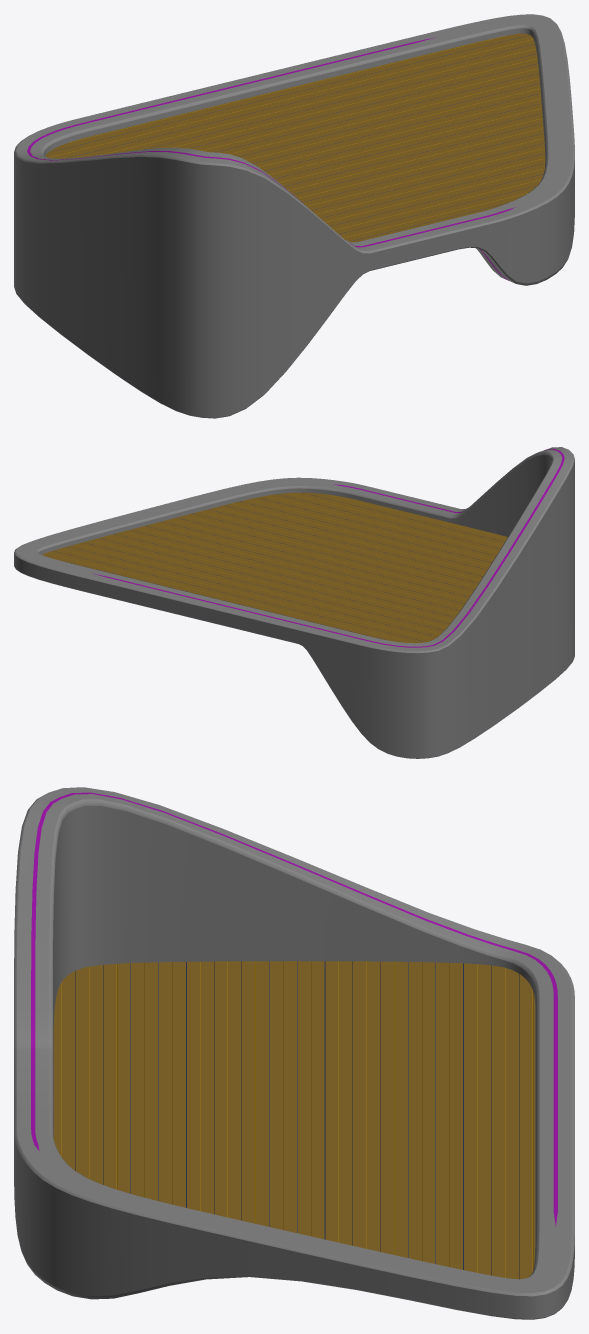
Rendered from SM_BuildingMK2_Middle01.fbx.
3 views of the same model, one above another, from view 1: azimuth 30°, elevation 25°; view 2: azimuth 150°, elevation 25°; view 3: azimuth 270°, elevation 25° (orthographic). The views are drawn at different scales.
Visible parts, largest first — view 1: Middle01; view 2: Middle01; view 3: Middle01.
Part boxes in pixels (x1,y1,x2,y2): Middle01: (14, 14, 574, 418); Middle01: (14, 447, 574, 758); Middle01: (14, 787, 574, 1319).
Size of the model in its own units: 2074 by 916 by 1367.
